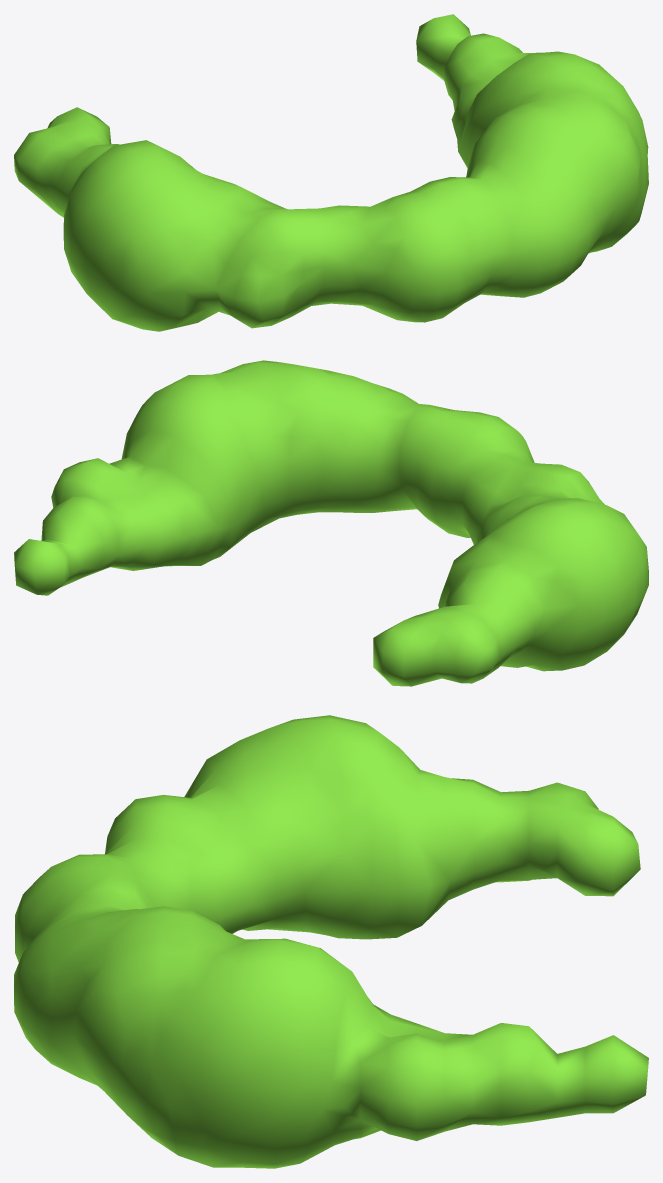
File: p_trashbot_trashball_wavetorus02_pose1.fbx
The picture shows the model from 3 angles, top to bottom: view 1: azimuth 30°, elevation 25°; view 2: azimuth 150°, elevation 25°; view 3: azimuth 270°, elevation 25°; orthographic projection. The views are drawn at different scales.
Parts seen in each view (by area): view 1: Wave_pose1; view 2: Wave_pose1; view 3: Wave_pose1.
Part boxes in pixels (x1,y1,x2,y2): Wave_pose1: [14, 14, 648, 331]; Wave_pose1: [14, 360, 648, 686]; Wave_pose1: [14, 715, 648, 1168].
Size of the model in its own units: 11.13 by 3.42 by 9.03.
